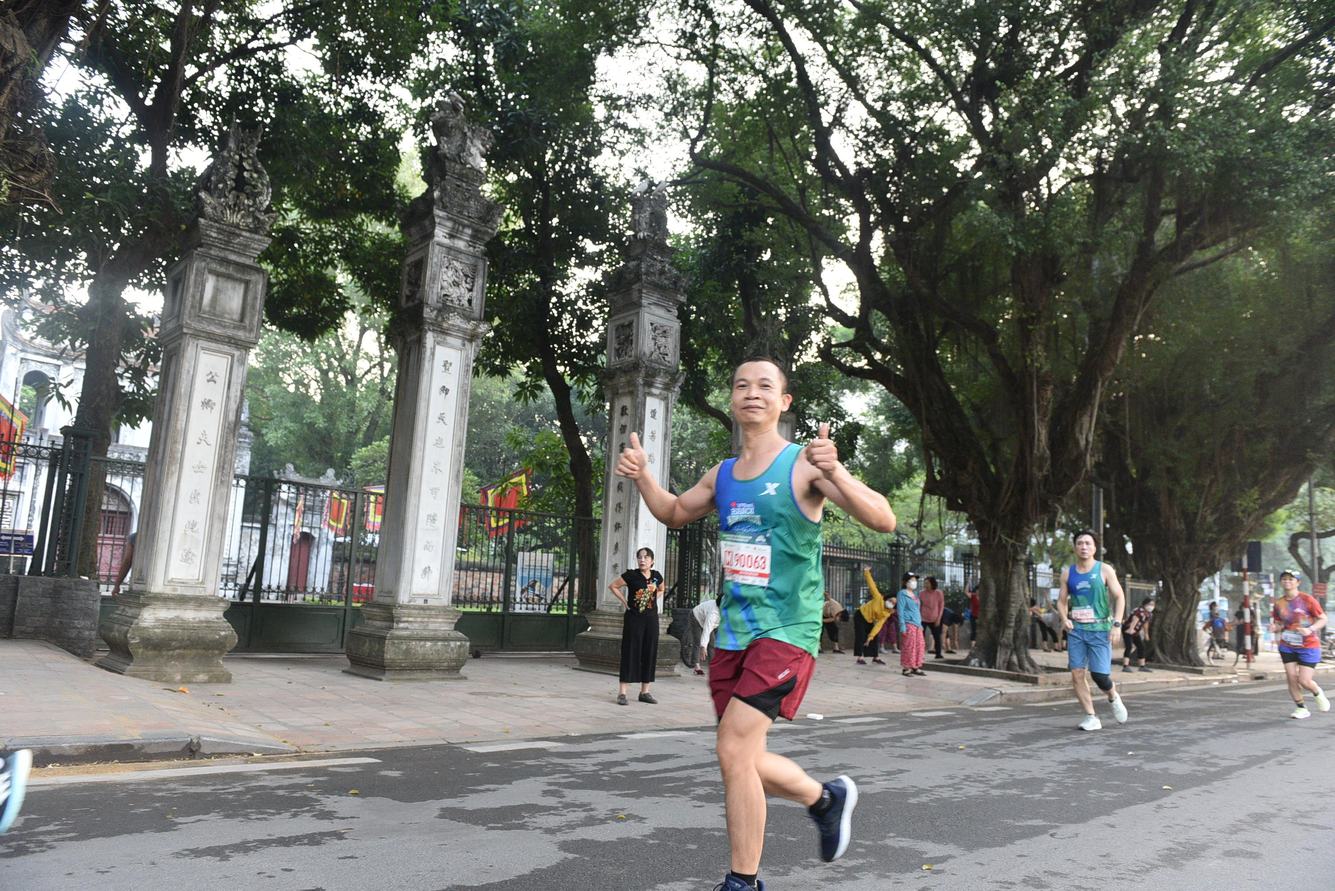bib: (721, 533, 772, 588), (1071, 606, 1094, 622), (1282, 630, 1303, 646)
